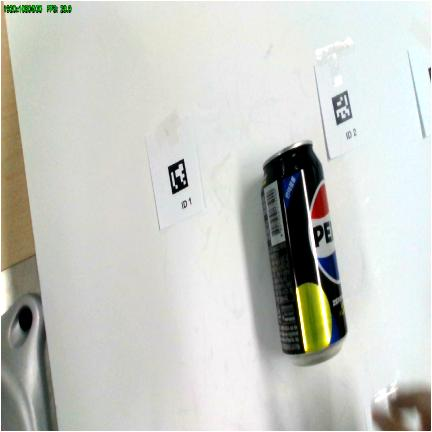can_pepsi_zero: (261, 140, 347, 364)
